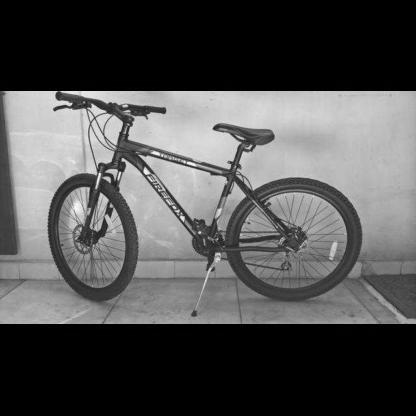Bicycle: (34, 100, 376, 307)
